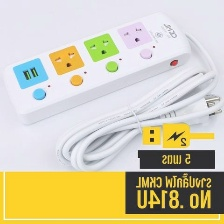three_eye_plug: (0, 7, 196, 131)
